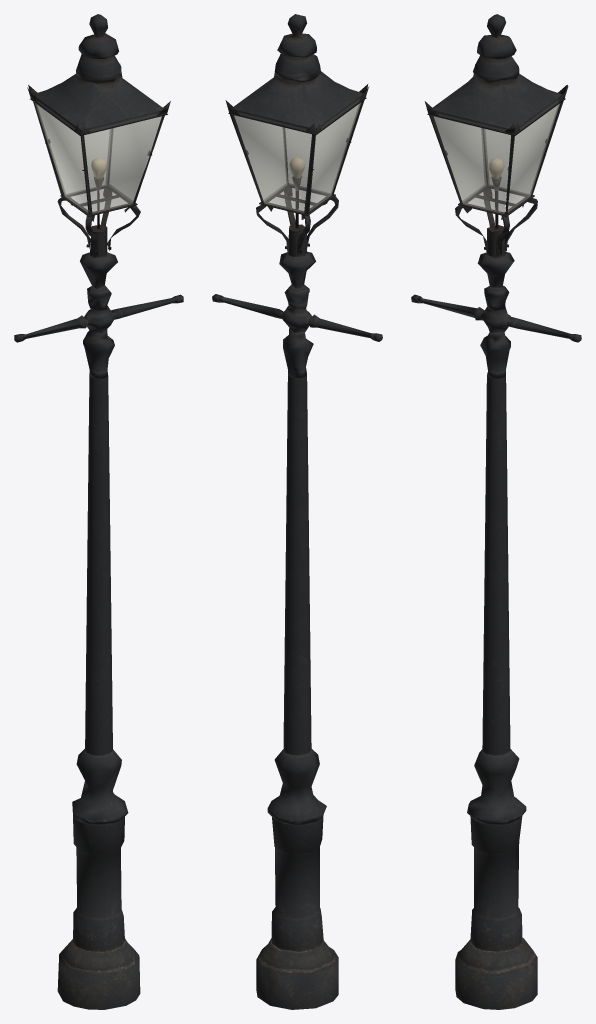
Rendered from StreetLamp_LOD1.obj.
The picture shows the model from 3 angles, left to right: view 1: azimuth 30°, elevation 25°; view 2: azimuth 150°, elevation 25°; view 3: azimuth 330°, elevation 25°; orthographic projection.
Parts seen in each view (by area): view 1: street_lamp_01_16ad29, street_lamp_01_2c61c8; view 2: street_lamp_01_16ad29, street_lamp_01_2c61c8; view 3: street_lamp_01_16ad29, street_lamp_01_2c61c8.
Boxes of the visible parts, <box> form: street_lamp_01_16ad29: <box>14,14,183,1009</box>; street_lamp_01_2c61c8: <box>35,103,161,213</box>; street_lamp_01_16ad29: <box>212,14,382,1009</box>; street_lamp_01_2c61c8: <box>234,102,361,212</box>; street_lamp_01_16ad29: <box>411,14,581,1009</box>; street_lamp_01_2c61c8: <box>433,103,559,213</box>.
Size of the model in its own units: 0.7032 by 3.87 by 0.3862.
3 materials, 1 textured.
